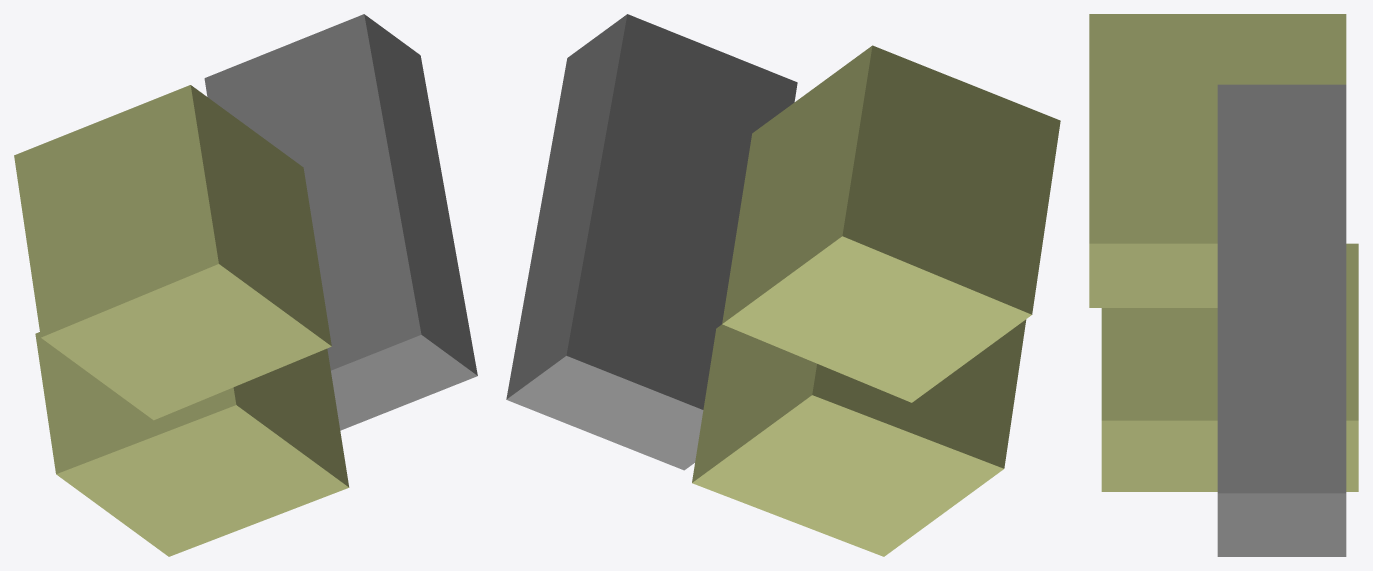
3 renders of one model, left to right at view 1: azimuth 30°, elevation 25°; view 2: azimuth 150°, elevation 25°; view 3: azimuth 270°, elevation 25°, orthographic. The views are drawn at different scales.
Visible parts, largest first — view 1: 0_1_2_0_1_3_3_0_2_1_3; view 2: 0_1_2_0_1_3_3_0_2_1_3; view 3: 0_1_2_0_1_3_3_0_2_1_3.
Boxes of the visible parts, x1,y1,x2,y2 form: 0_1_2_0_1_3_3_0_2_1_3: [14, 14, 477, 556]; 0_1_2_0_1_3_3_0_2_1_3: [506, 14, 1060, 556]; 0_1_2_0_1_3_3_0_2_1_3: [1089, 14, 1358, 556].
Size of the model in its own units: 12.5 by 11.44 by 6.29.
